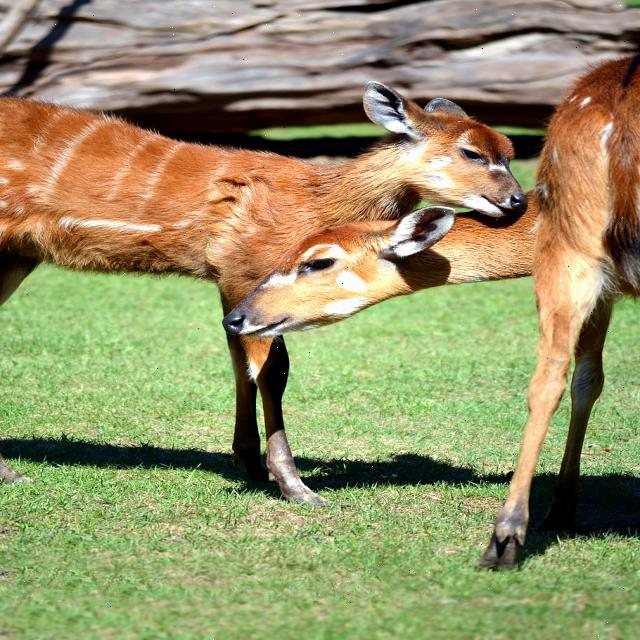deer: (173, 195, 462, 372), (310, 79, 560, 231)
